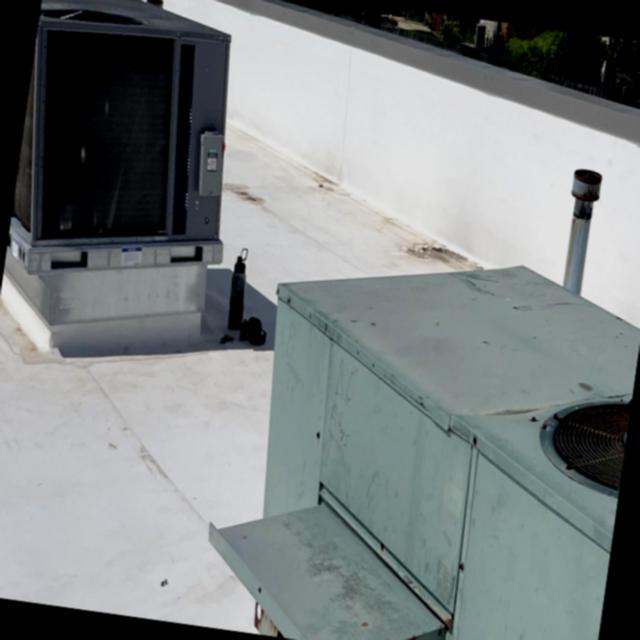RTU: (186, 220, 640, 640), (0, 0, 268, 381)
